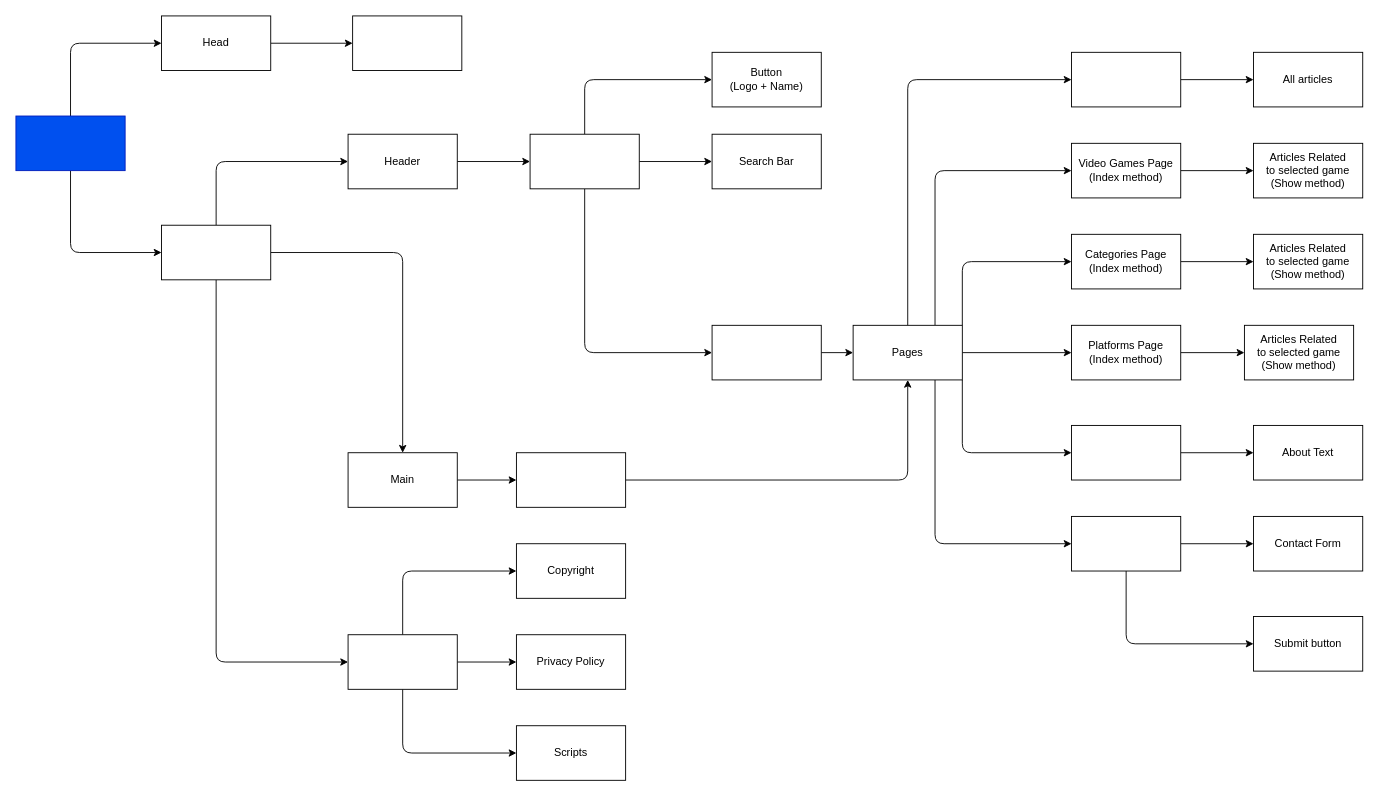
The diagram is 1379 pixels wide and 796 high, and some of its shapes have lost their labels. Each missing label, with the centre of its shape:
"About Page (Index method)" belongs at (1126,452).
"Body" belongs at (216,252).
"Contact Page (Index method)" belongs at (1126,543).
"Footer" belongs at (402,661).
"Front-End Epic Game News" belongs at (70,143).
"Home" belongs at (1126,79).
"Layout" belongs at (571,479).
"Menu Buttons" belongs at (766,352).
"Navbar" belongs at (584,161).
"Title SEO Styles" belongs at (407,43).
